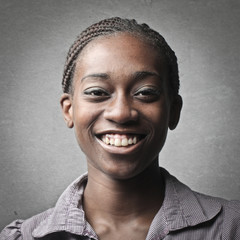teen: (61, 21, 180, 189)
